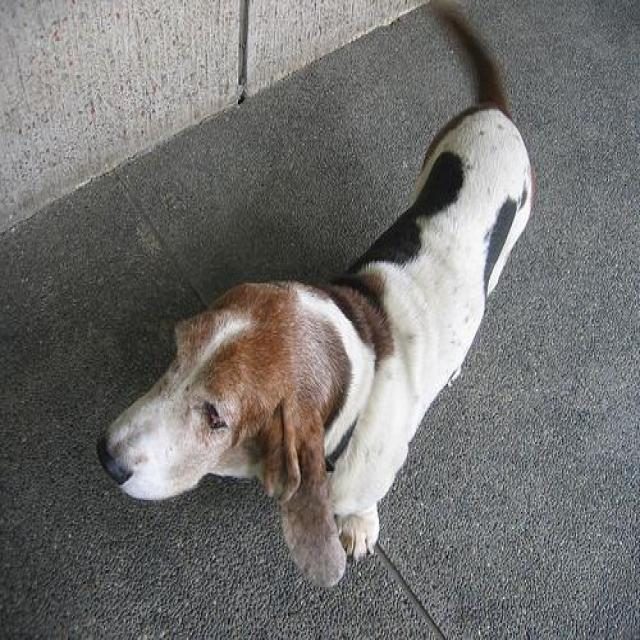basset: (95, 2, 536, 590)
